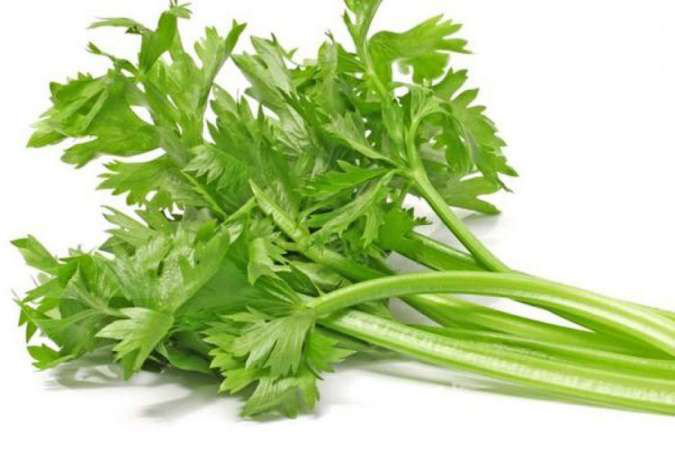Seledri: (18, 15, 674, 437)
